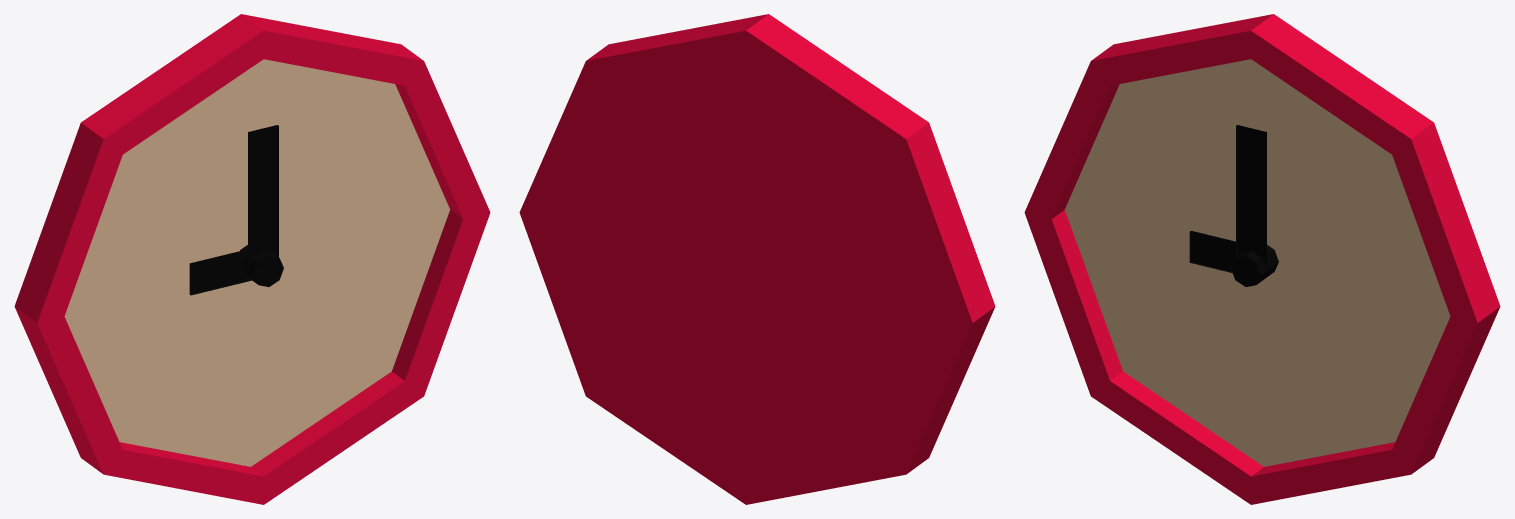
Rendered from Reloj.glb.
3 views of the same model, side by side, from view 1: azimuth 30°, elevation 25°; view 2: azimuth 150°, elevation 25°; view 3: azimuth 330°, elevation 25° (orthographic).
Parts seen in each view (by area): view 1: Circle.002, Circle, Plane, Plane.001, Circle.001; view 2: Circle; view 3: Circle.002, Circle, Plane, Plane.001, Circle.001.
Boxes of the visible parts, x1,y1,x2,y2 form: Circle.002: (64,59,449,466); Circle: (14,14,490,504); Plane: (248,125,278,269); Plane.001: (189,249,251,295); Circle.001: (240,245,283,286); Circle: (519,14,995,504); Circle.002: (1065,59,1450,466); Circle: (1024,14,1500,504); Plane: (1236,125,1266,269); Plane.001: (1189,230,1235,272); Circle.001: (1231,245,1278,286).
Bounding box in the file's own units: 3.49 × 3.49 × 0.3752.
